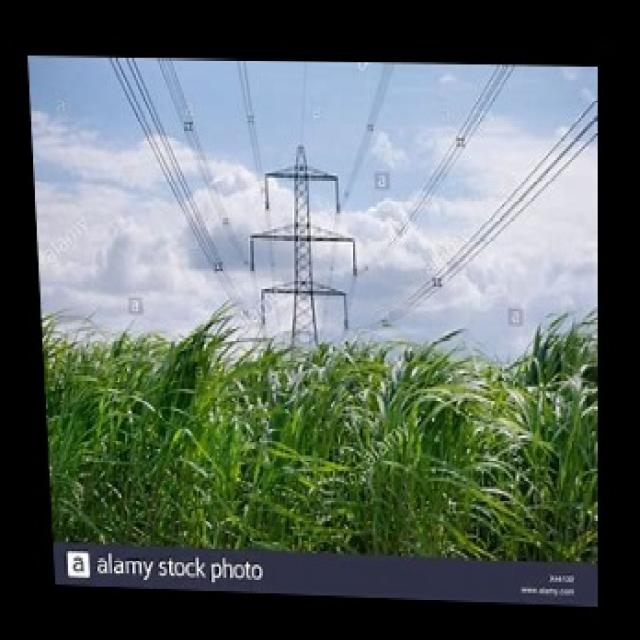utility poles: (245, 106, 372, 550)
